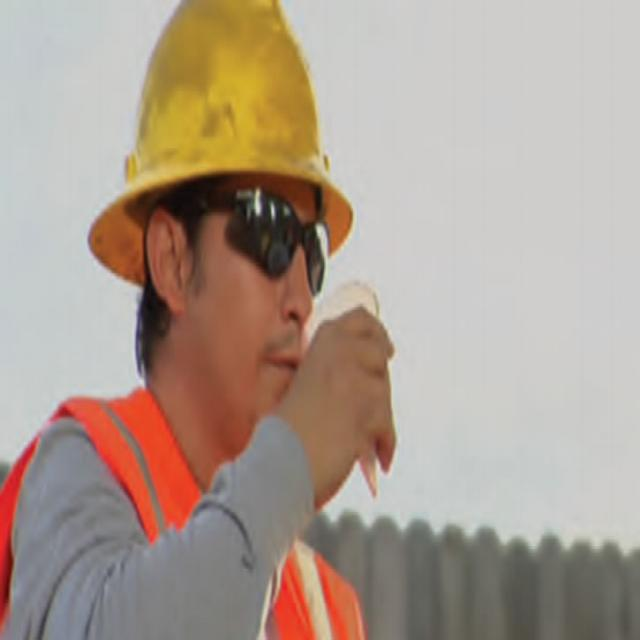Reflective-Jacket: (0, 382, 377, 638)
Safety-Helmet: (87, 9, 361, 293)
